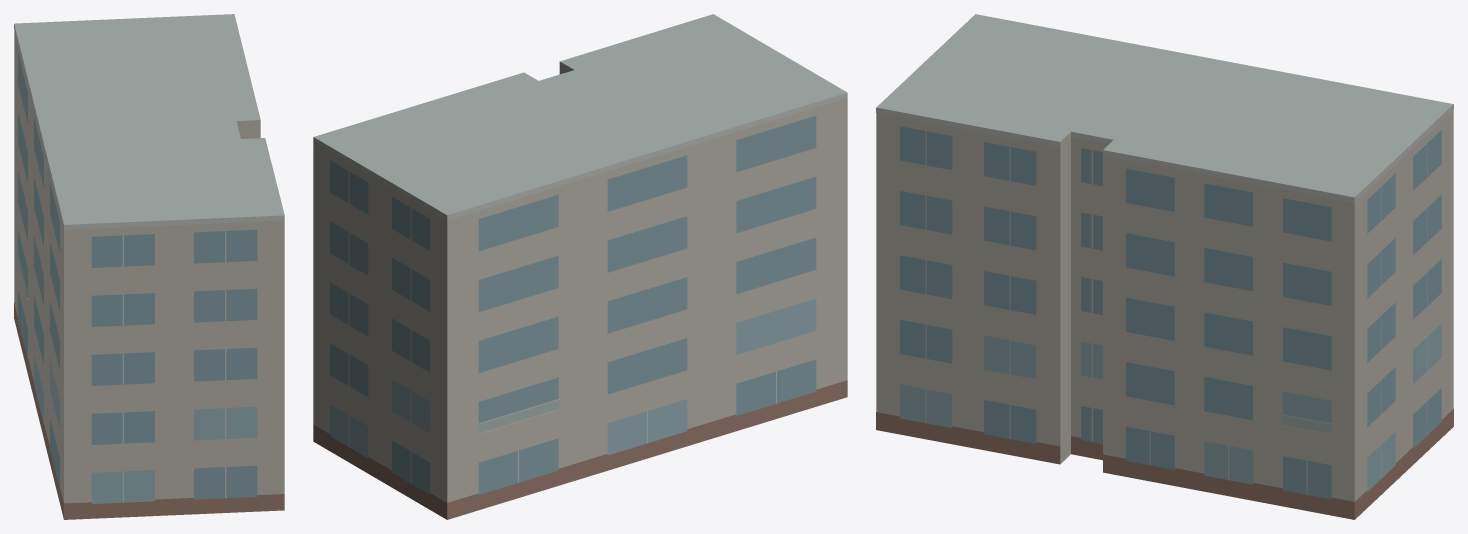
The model's file is survey-upis-32523499.glb.
3 views of the same model, side by side, from view 1: azimuth 30°, elevation 25°; view 2: azimuth 150°, elevation 25°; view 3: azimuth 270°, elevation 25° (orthographic). The views are drawn at different scales.
Visible parts, largest first — view 1: survey-upis-32523499.tmp; view 2: survey-upis-32523499.tmp; view 3: survey-upis-32523499.tmp.
Boxes of the visible parts, box(x1,y1,x2,y2) form: survey-upis-32523499.tmp: box(14, 14, 284, 519); survey-upis-32523499.tmp: box(313, 14, 847, 519); survey-upis-32523499.tmp: box(876, 14, 1453, 519).
Size of the model in its own units: 17.21 by 14.1 by 22.9.
